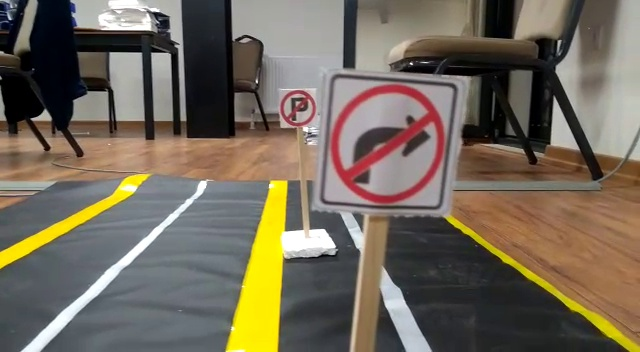park_yapilmaz: (280, 88, 317, 128)
saga_donulmez: (325, 76, 446, 208)
